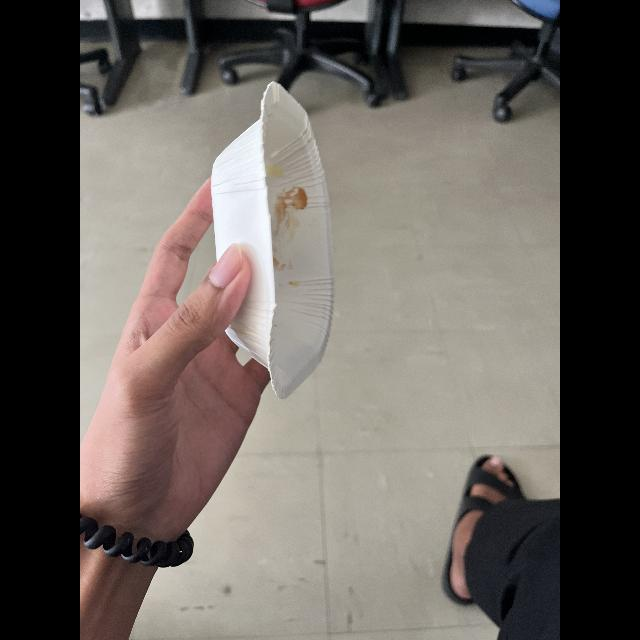cardboard_bowl: (207, 76, 335, 404)
